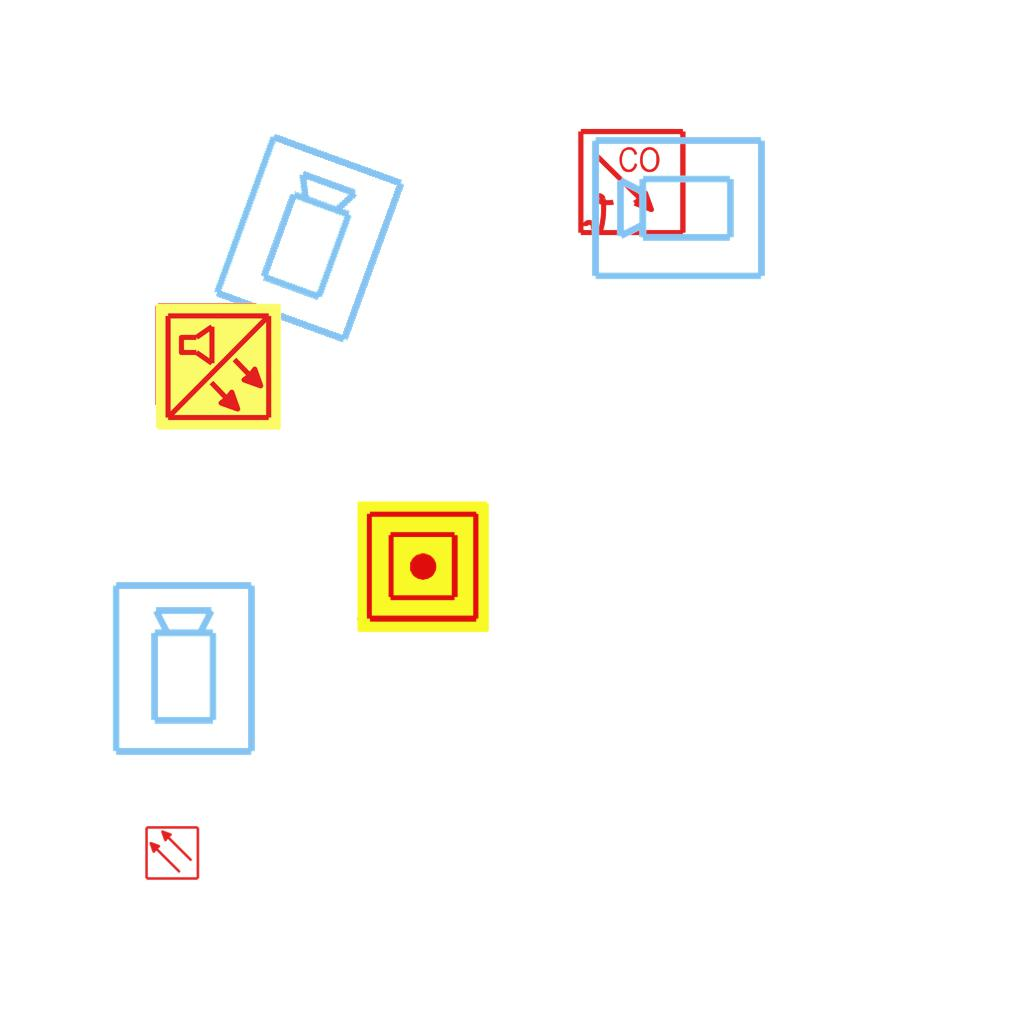KFO_Kamera_mit_Festobjektiv: (206, 127, 414, 351), (108, 578, 262, 760), (588, 130, 770, 284)
NAM-Nichtautomatischer_Melder: (357, 501, 489, 633)
OKW_Multisensormelder_(Kombination_optischer_Rauch-Kahlenmonoxid_Waerme-Melder): (152, 301, 284, 433)
RMO_Rauchmelder_optischer: (144, 825, 200, 881)
ROA_Rauchmelder_optisch_mit_Signalgeber_(Sockelsirene): (576, 127, 689, 240)
